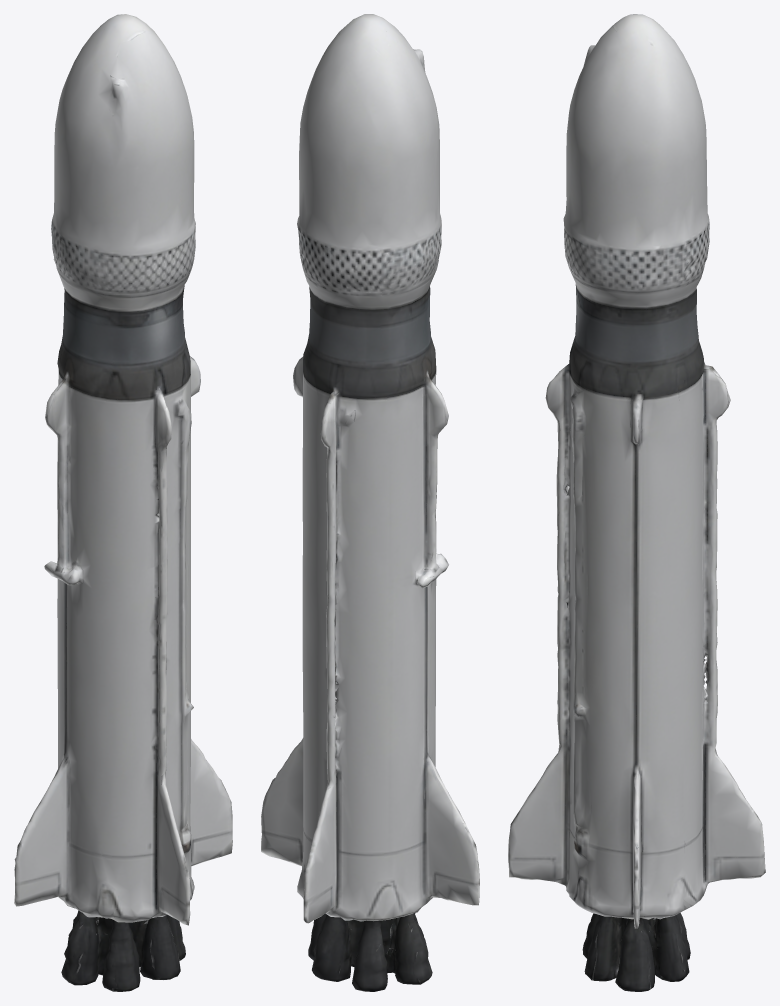
Rendered from rocket_main.glb.
The picture shows the model from 3 angles, left to right: view 1: azimuth 30°, elevation 25°; view 2: azimuth 150°, elevation 25°; view 3: azimuth 270°, elevation 25°; orthographic projection.
Parts seen in each view (by area): view 1: Mesh1.0; view 2: Mesh1.0; view 3: Mesh1.0.
Boxes of the visible parts, bbox=[...] form: Mesh1.0: bbox=[14, 14, 232, 991]; Mesh1.0: bbox=[261, 14, 479, 991]; Mesh1.0: bbox=[508, 14, 765, 991].
Size of the model in its own units: 0.4817 by 2.01 by 0.4932.
Materials: 1 (1 with a texture image).
